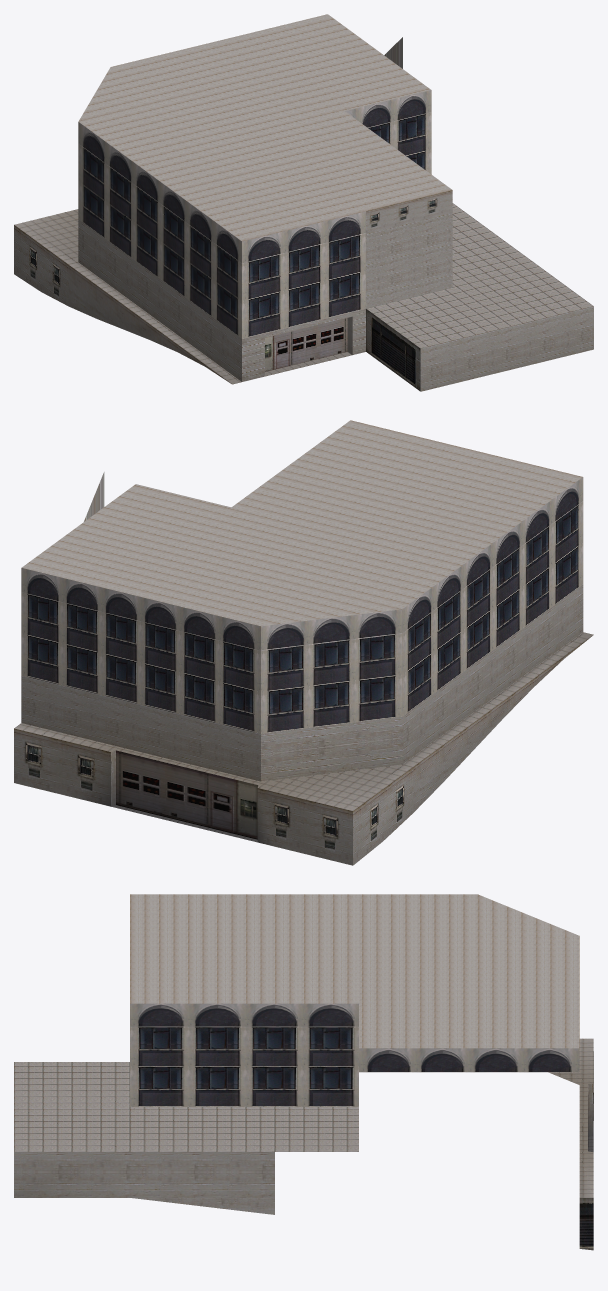
The model's file is M2Zone2_ArchedBuilding.glb.
3 renders of one model, top to bottom at view 1: azimuth 30°, elevation 25°; view 2: azimuth 150°, elevation 25°; view 3: azimuth 270°, elevation 25°, orthographic. The views are drawn at different scales.
Parts seen in each view (by area): view 1: M2ZONE2_ARCHEDBUILDING; view 2: M2ZONE2_ARCHEDBUILDING; view 3: M2ZONE2_ARCHEDBUILDING.
Part boxes in pixels (bbox=[...]): M2ZONE2_ARCHEDBUILDING: bbox=[14, 14, 593, 391]; M2ZONE2_ARCHEDBUILDING: bbox=[14, 420, 593, 865]; M2ZONE2_ARCHEDBUILDING: bbox=[14, 894, 593, 1250].
Size of the model in its own units: 26 by 20 by 40.02.
8 materials, 8 textured.
